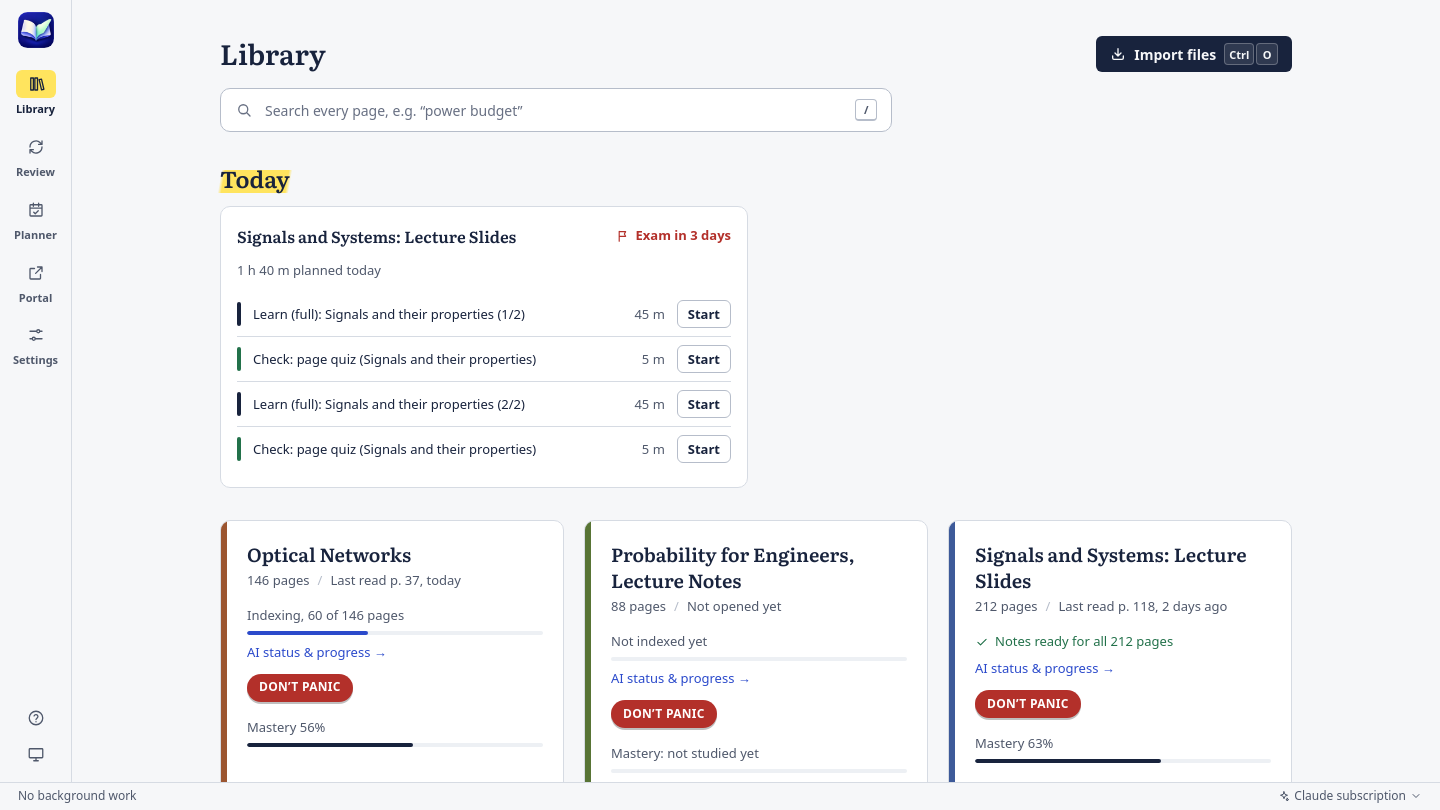
Test: LibraryScreen › imports through library.import with the native picker
Expected: the element named "Books" is shown, [220,520,1292,782]
What coordinates should you click on to do the following:
click the button "Import files Ctrl O"
I would click on:
 (1194, 54)
Its box is [1096,36,1292,72].
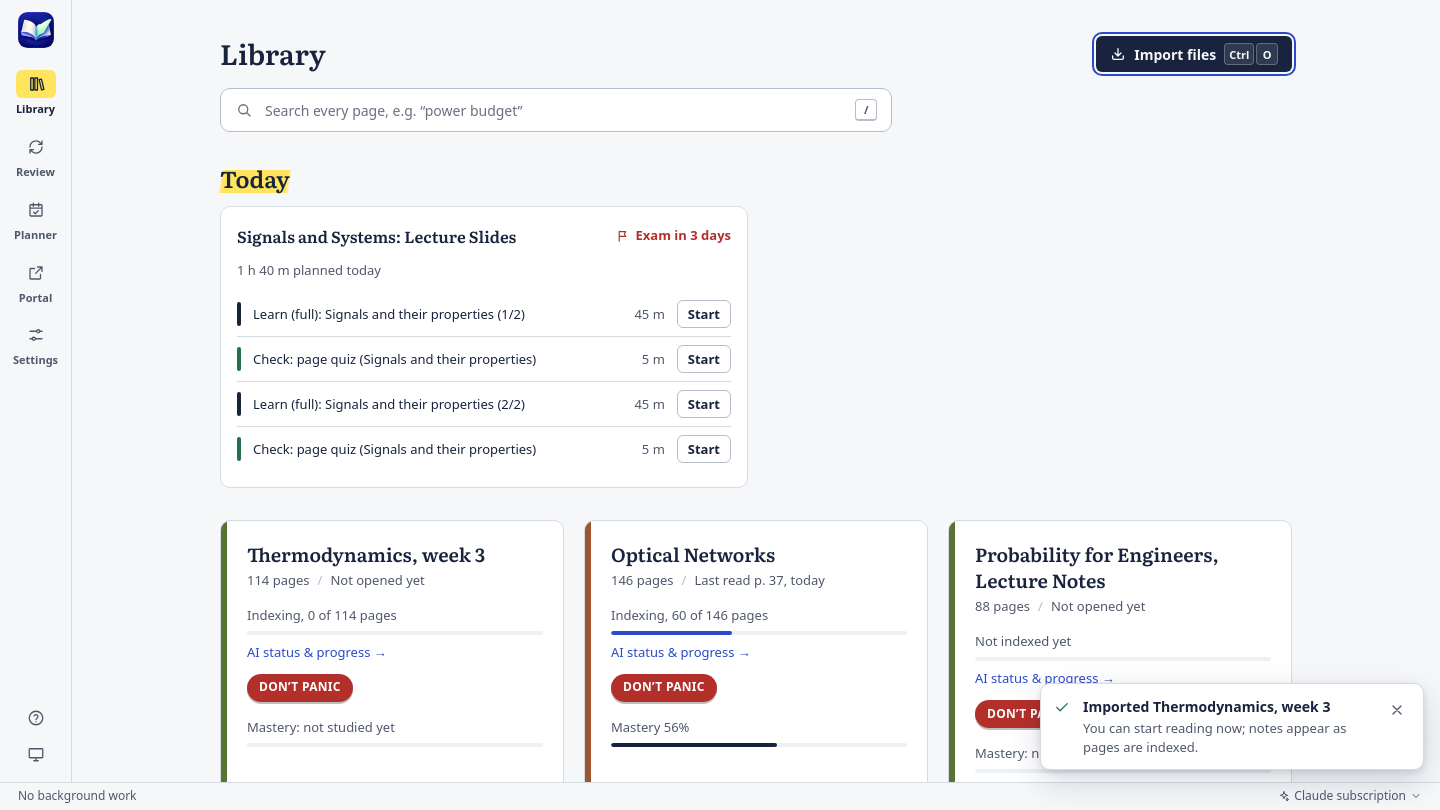
Now the link "Thermodynamics, week 3" is shown, box [247,540,485,568]
